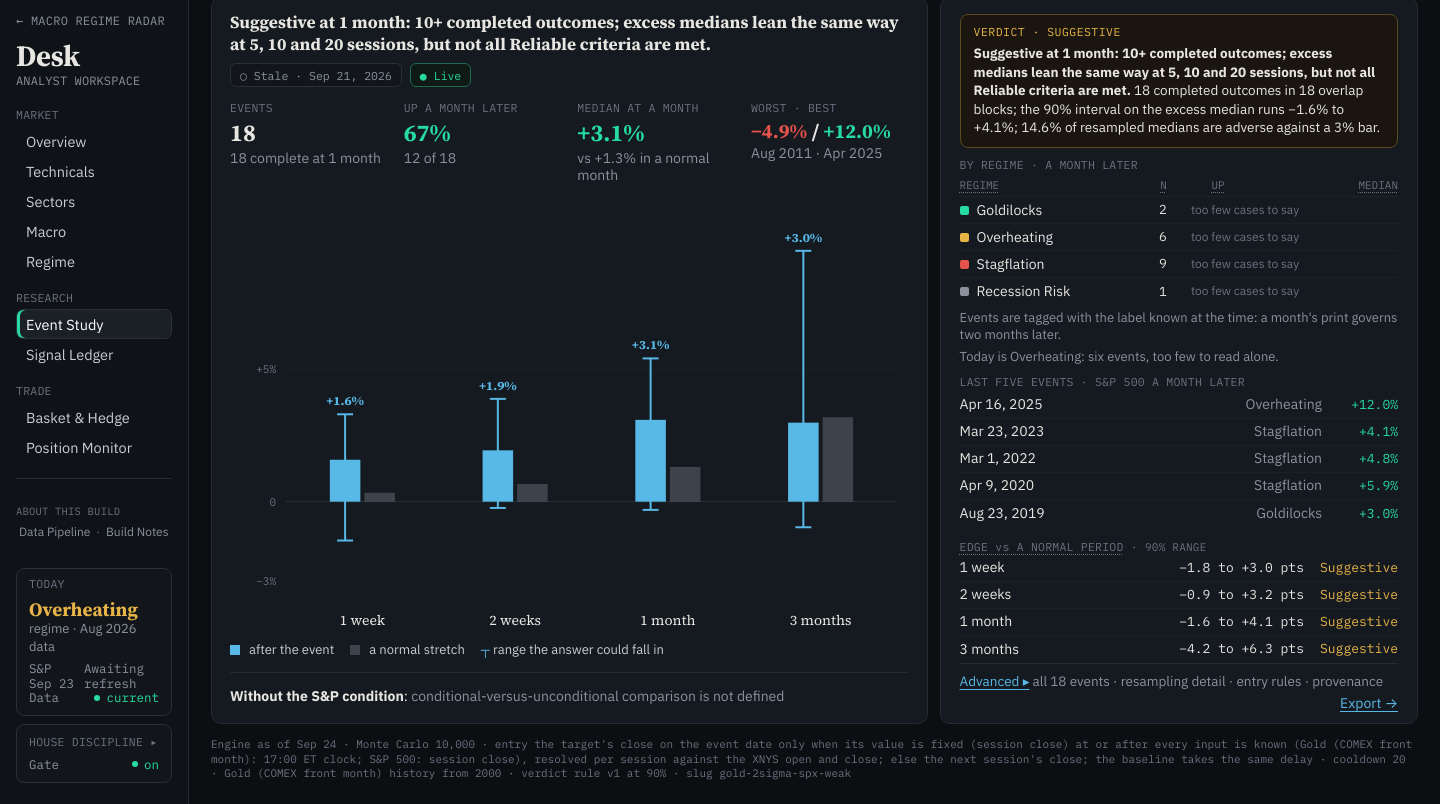
Scenario: every Desk column head carries its definition (desk/pdf-polish item 7) › Event Study: by regime, and every event in Advanced
(page scrolled)
Expected: the table with class "es-table" is shown, [960,175,1398,305]
Click the button with test id "dk-advanced" at (994, 681), box [960,672,1029,690]
(page scrolled)
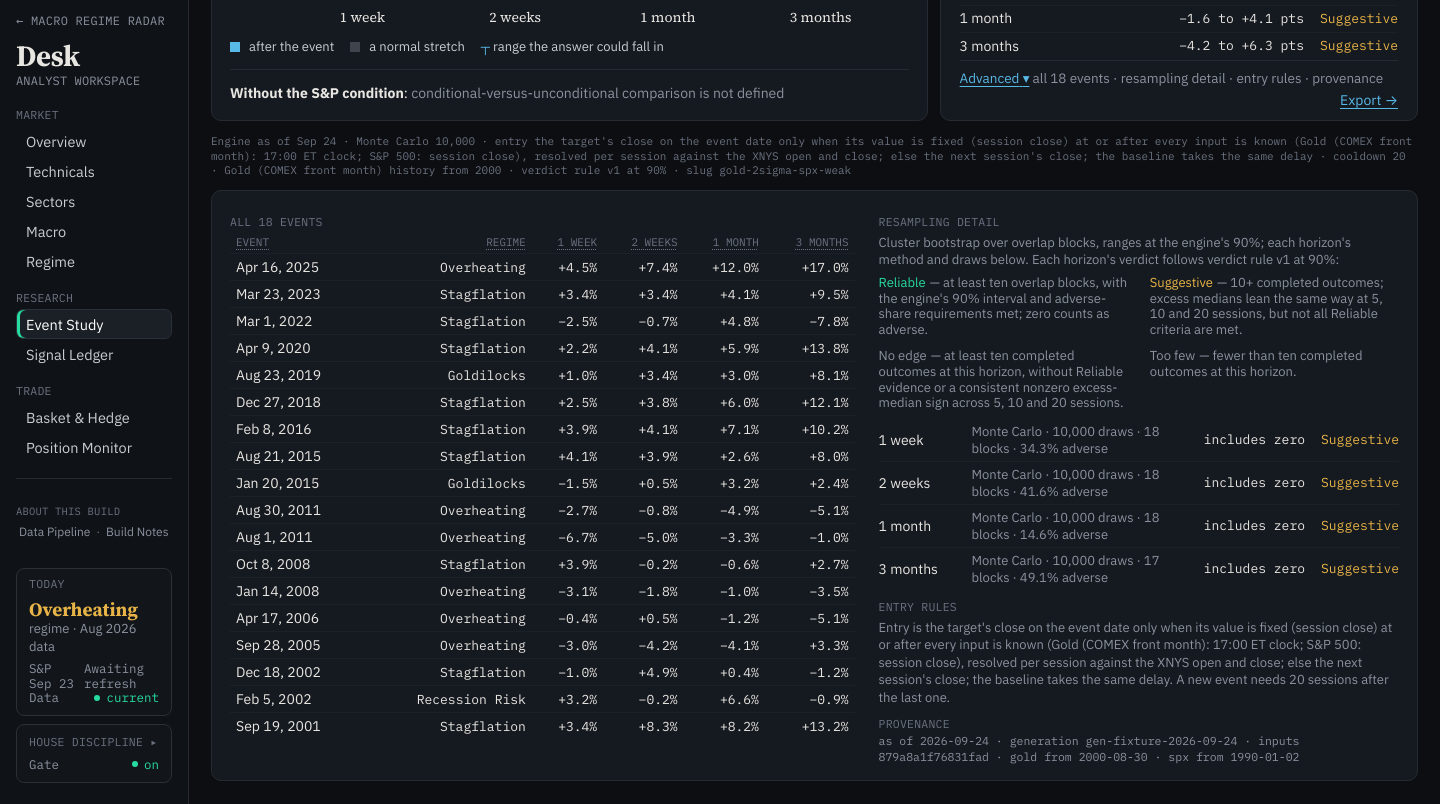
Now the table with class "es-wide" is shown, box [230,232,854,740]
